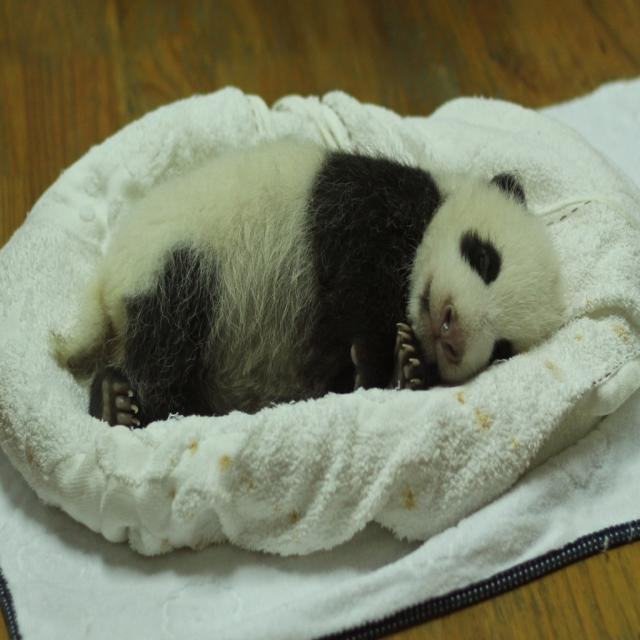panda: (46, 116, 573, 433)
